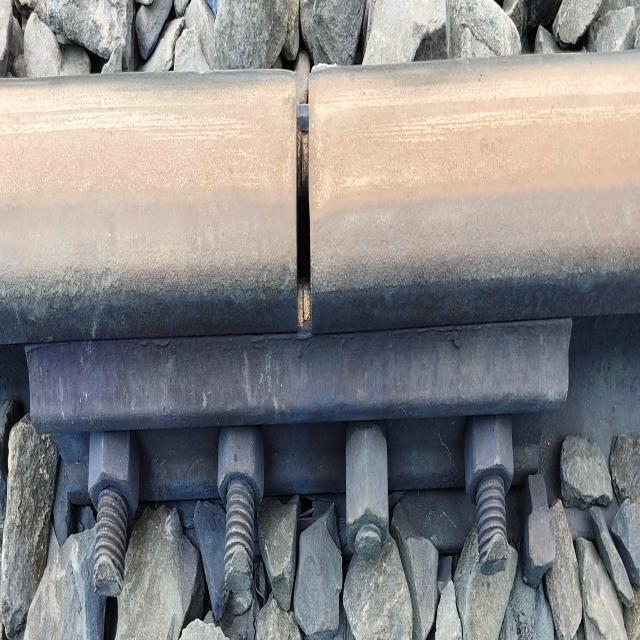Good Joint: (28, 342, 568, 574)
